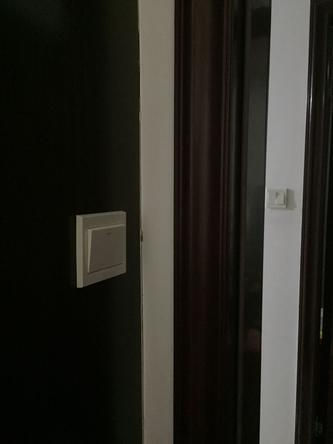switch: (81, 215, 130, 280)
